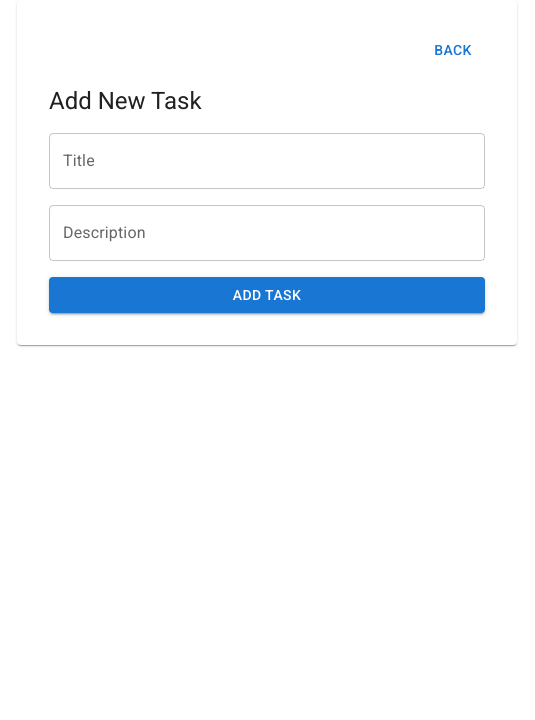
TaskForm › closes the alert when close button is clicked
The width and height of the screenshot is (535, 720).
Type "Close alert test" into the field labelled "Title". click: coordinates (267, 160)
box: 49,132 -> 485,188
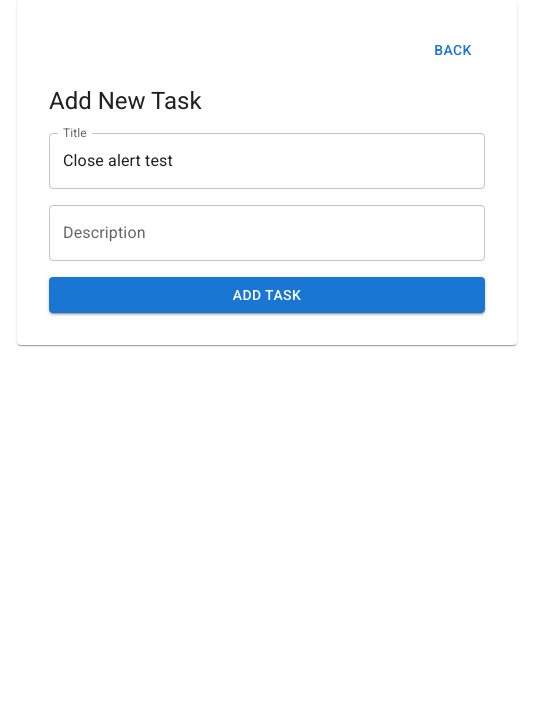
Click the button "Add Task". click: coordinates (267, 295)
box: 49,276 -> 485,313
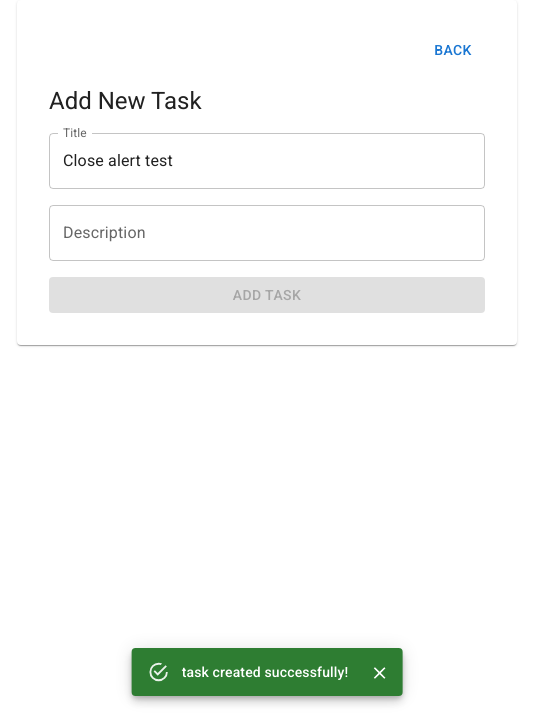
Result: the message "task created successfully!" is shown at 132,648 -> 402,696
Click the button named "close". click: coordinates (379, 673)
box: 364,658 -> 394,688
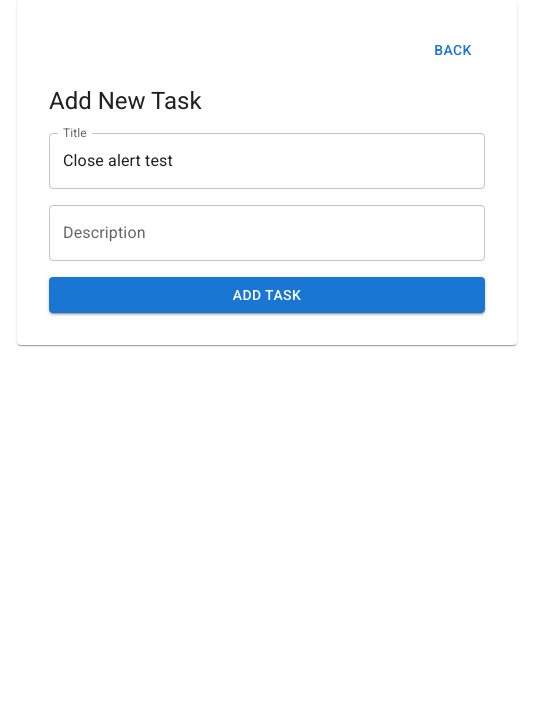
Result: the message "task created successfully!" is gone
